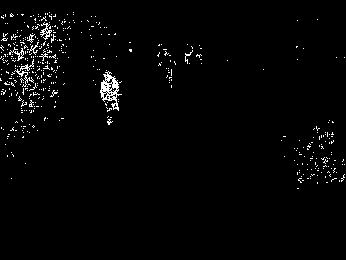person: (97, 70, 122, 126)
